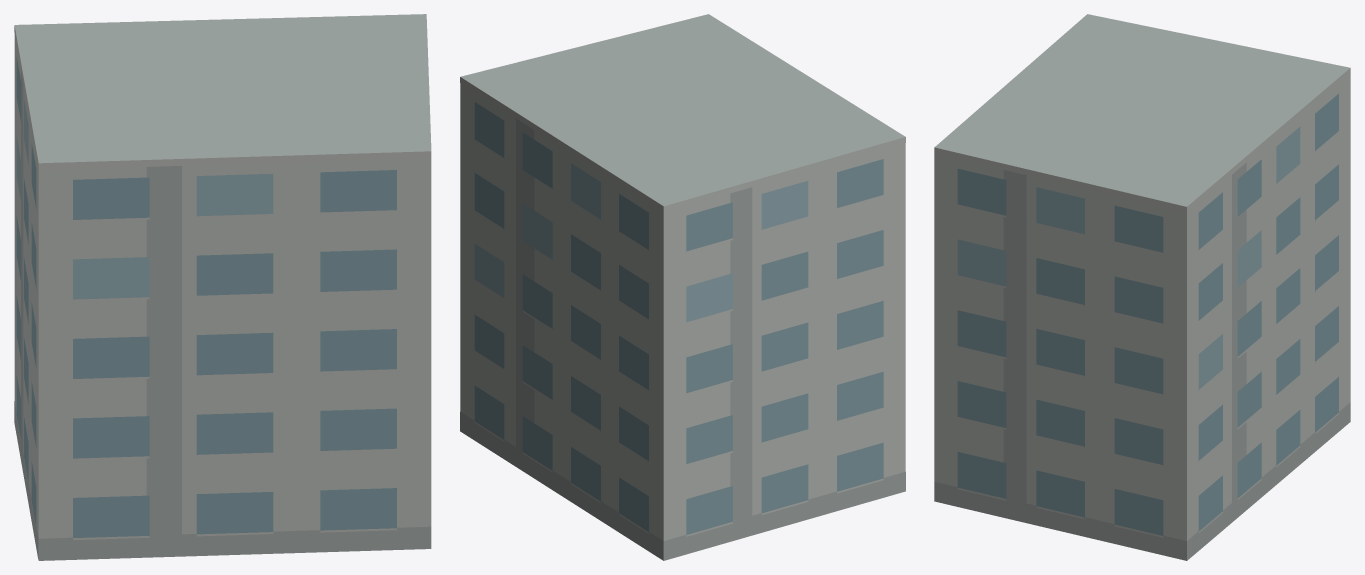
Rendered from survey-upis-32531334.glb.
3 renders of one model, left to right at view 1: azimuth 30°, elevation 25°; view 2: azimuth 150°, elevation 25°; view 3: azimuth 270°, elevation 25°, orthographic. The views are drawn at different scales.
Parts seen in each view (by area): view 1: survey-upis-32531334.tmp; view 2: survey-upis-32531334.tmp; view 3: survey-upis-32531334.tmp.
Part boxes in pixels (x1,y1,x2,y2): survey-upis-32531334.tmp: (14,14,431,560); survey-upis-32531334.tmp: (460,14,905,560); survey-upis-32531334.tmp: (934,14,1350,560).
Size of the model in its own units: 16.37 by 14 by 14.92.
